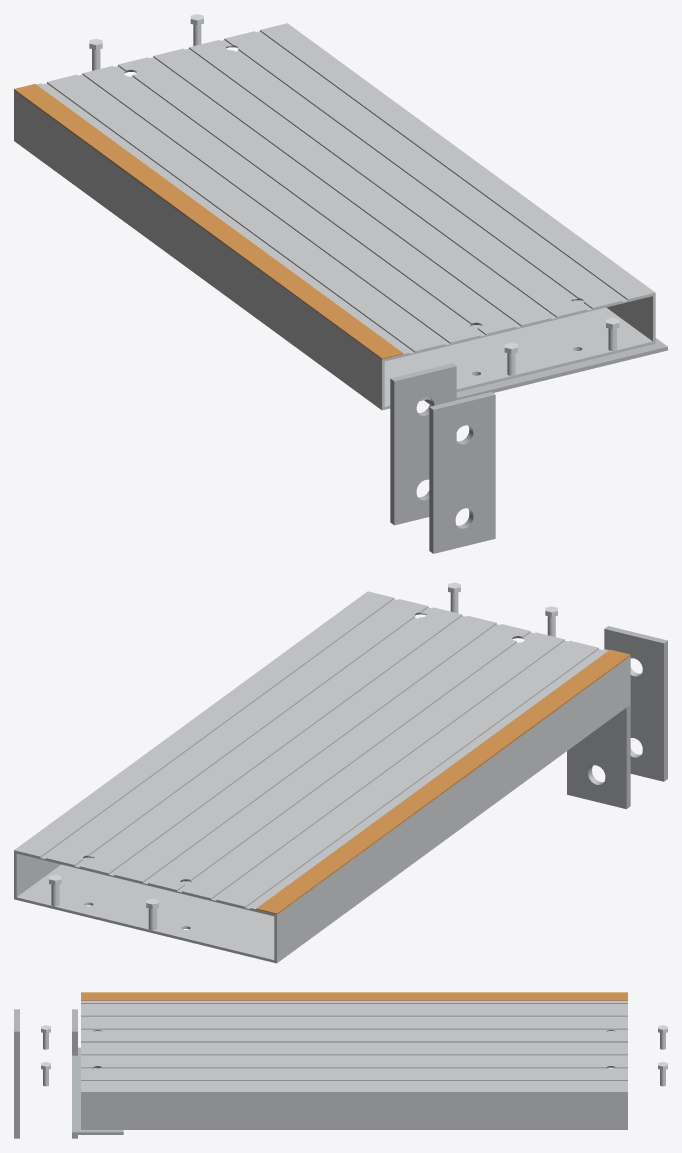
Rendered from car_A0_0.glb.
3 renders of one model, top to bottom at view 1: azimuth 30°, elevation 25°; view 2: azimuth 150°, elevation 25°; view 3: azimuth 270°, elevation 25°, orthographic. The views are drawn at different scales.
Parts seen in each view (by area): view 1: =>[0:1:1:8], =>[0:1:1:6], =>[0:1:1:5], =>[0:1:1:10]; view 2: =>[0:1:1:8], =>[0:1:1:10], =>[0:1:1:6], =>[0:1:1:5]; view 3: =>[0:1:1:8], =>[0:1:1:10], =>[0:1:1:5], =>[0:1:1:6].
Boxes of the visible parts, box(x1,y1,x2,y2) form: =>[0:1:1:8]: box(14, 23, 655, 410); =>[0:1:1:6]: box(429, 392, 495, 553); =>[0:1:1:5]: box(390, 338, 667, 525); =>[0:1:1:10]: box(14, 84, 403, 359); =>[0:1:1:8]: box(14, 591, 630, 963); =>[0:1:1:10]: box(256, 649, 630, 914); =>[0:1:1:6]: box(604, 626, 667, 781); =>[0:1:1:5]: box(567, 705, 630, 809); =>[0:1:1:8]: box(81, 1000, 627, 1129); =>[0:1:1:10]: box(81, 992, 627, 1000); =>[0:1:1:5]: box(72, 1009, 123, 1138); =>[0:1:1:6]: box(14, 1009, 19, 1138).
Bounding box in the file's own units: 0.315 × 0.1808 × 0.8585.
